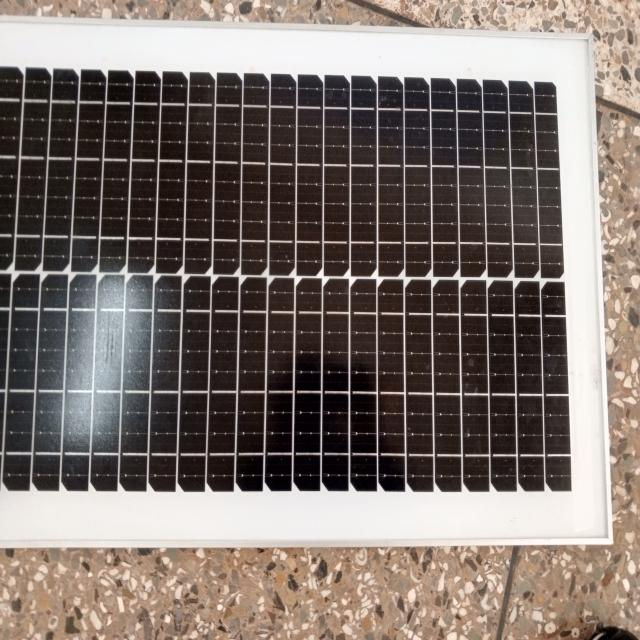Clean: (0, 56, 586, 509)
